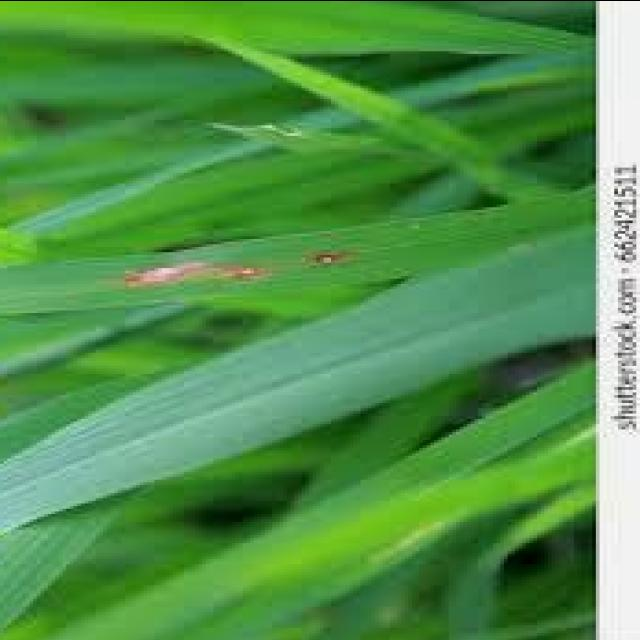Leaf_Blast: (95, 260, 258, 294), (280, 243, 354, 275)
